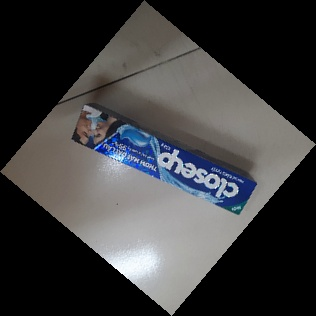CloseUp Tuyet: (71, 99, 258, 217)
